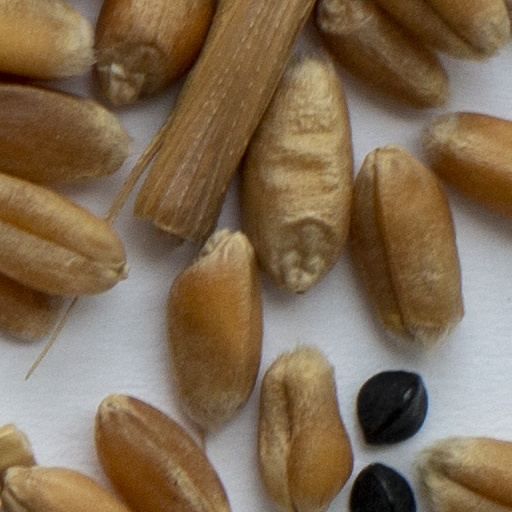Fallopia-Convolvulus-poly: (355, 367, 431, 450), (349, 458, 418, 511)
